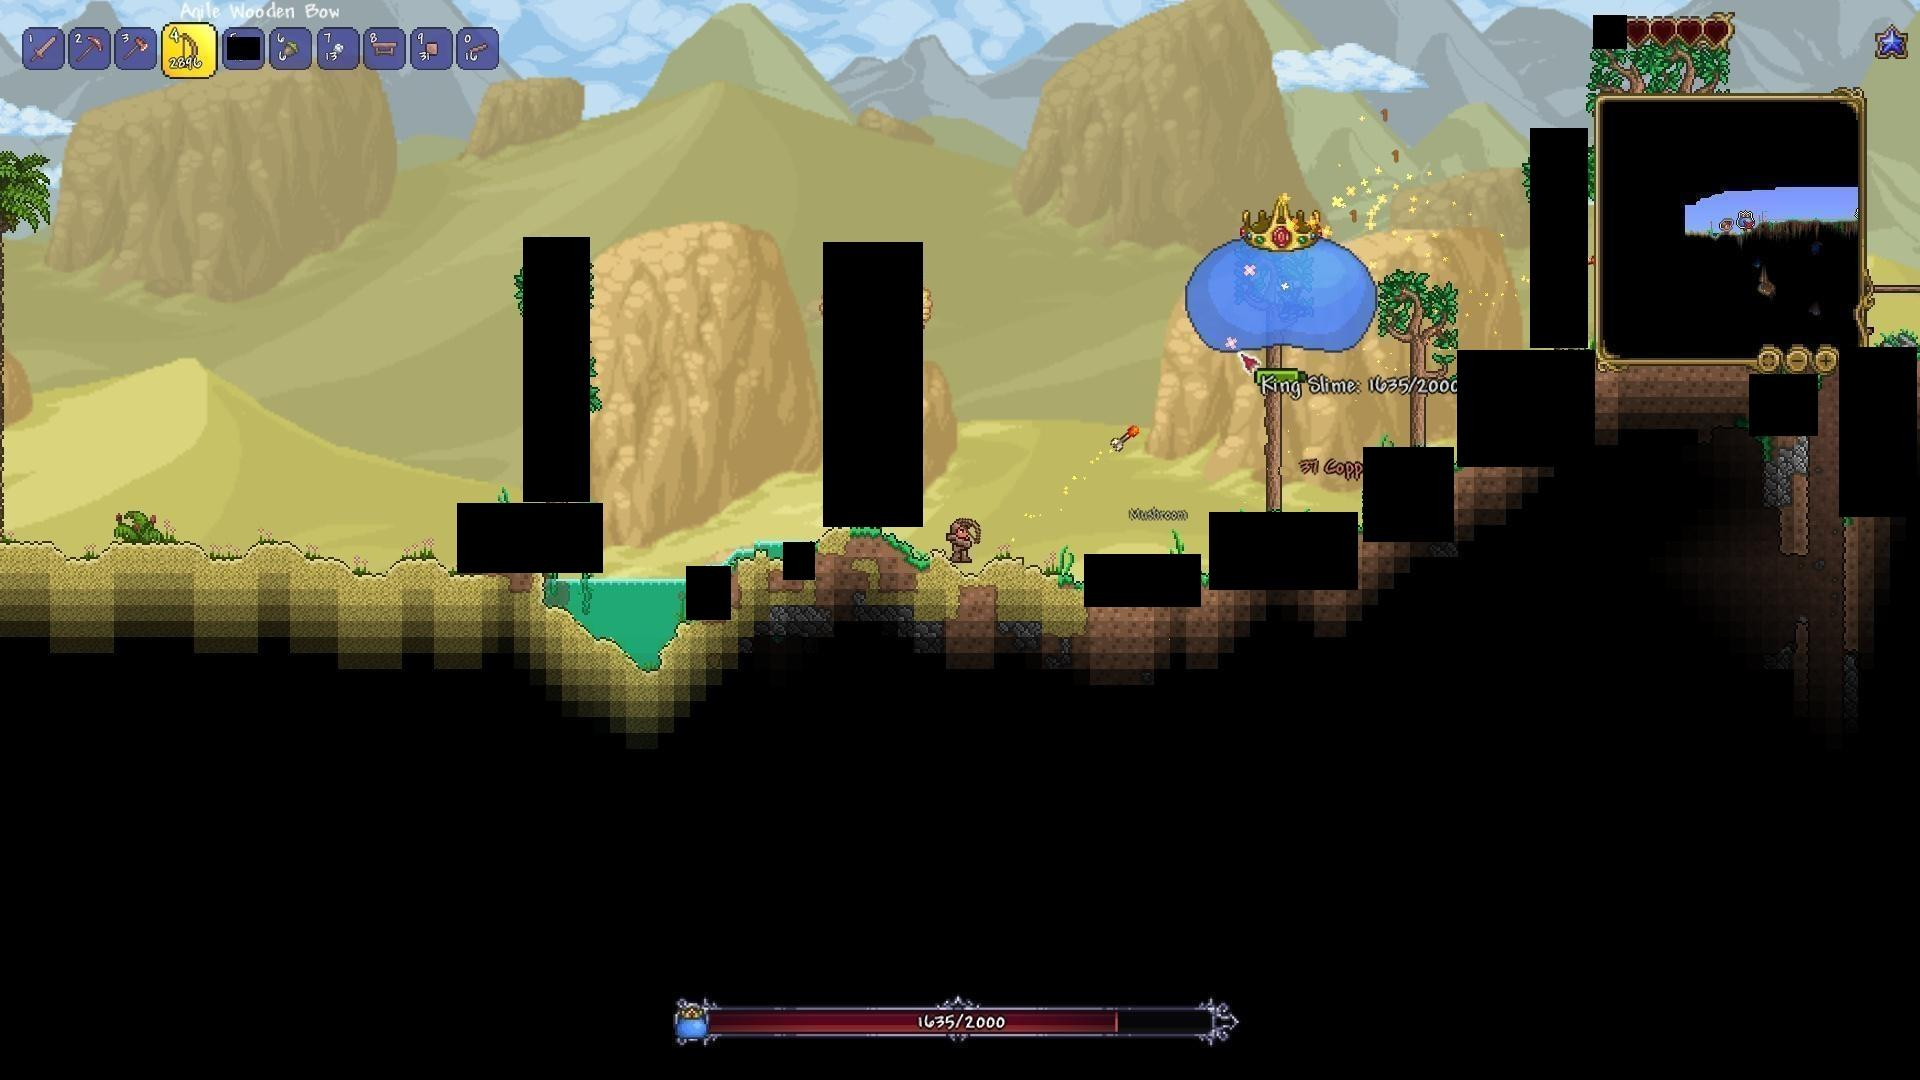dirt: (848, 527, 938, 576)
tree: (1371, 272, 1455, 446)
workbench: (367, 34, 404, 59)
